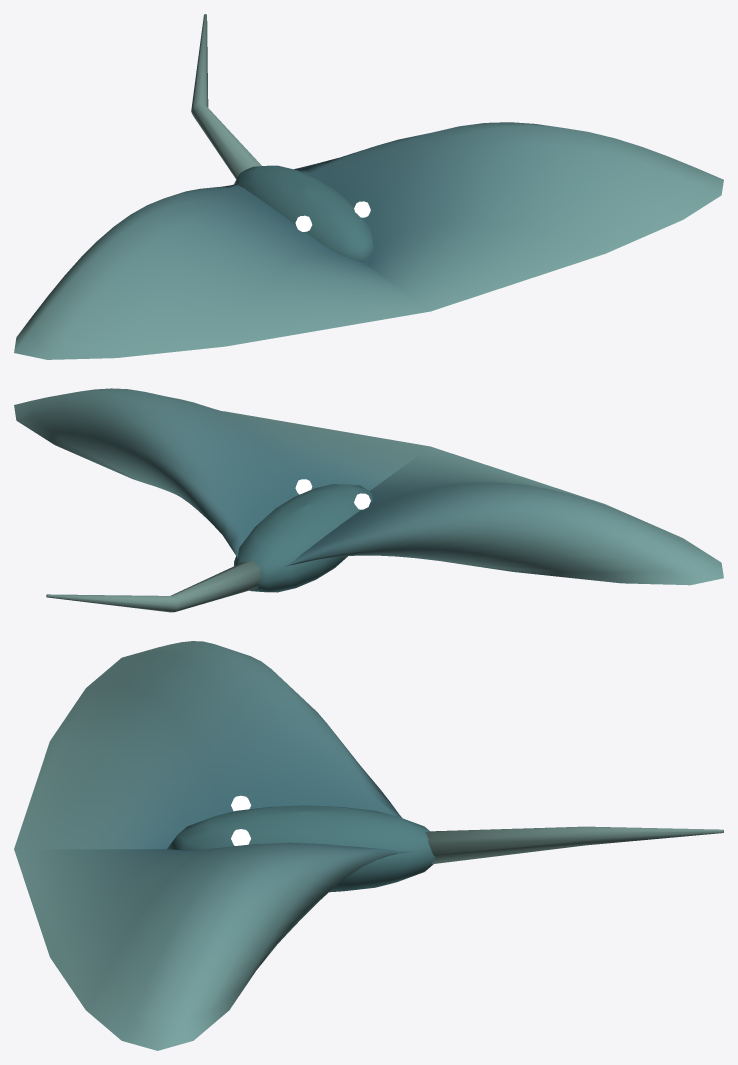
Rendered from skyray.glb.
3 renders of one model, top to bottom at view 1: azimuth 30°, elevation 25°; view 2: azimuth 150°, elevation 25°; view 3: azimuth 270°, elevation 25°, orthographic. The views are drawn at different scales.
Visible parts, largest first — view 1: SkyRay_ivory; view 2: SkyRay_ivory, SkyRay_light; view 3: SkyRay_ivory.
Boxes of the visible parts, x1,y1,x2,y2 form: SkyRay_ivory: (14, 14, 723, 359); SkyRay_ivory: (14, 388, 723, 612); SkyRay_light: (295, 479, 370, 509); SkyRay_ivory: (14, 641, 723, 1050).
Size of the model in its own units: 2.06 by 0.28 by 1.53.
